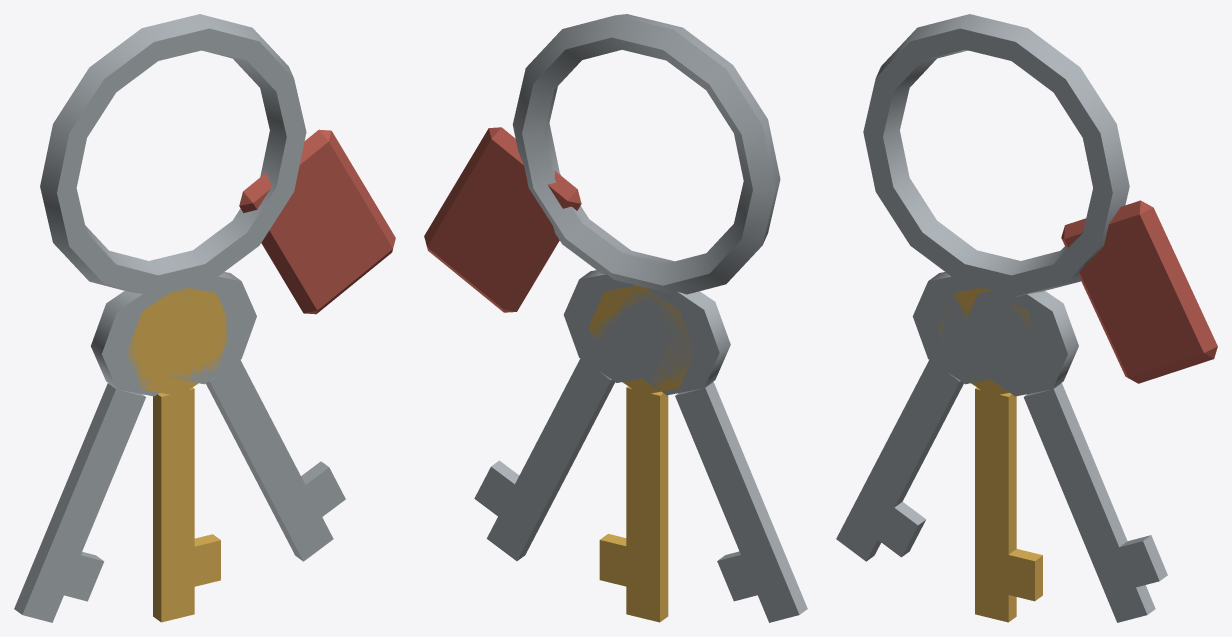
Rendered from key_ring.glb.
3 views of the same model, side by side, from view 1: azimuth 30°, elevation 25°; view 2: azimuth 150°, elevation 25°; view 3: azimuth 330°, elevation 25° (orthographic).
Visible parts, largest first — view 1: key_ring; view 2: key_ring; view 3: key_ring.
Part boxes in pixels (<box>): key_ring: <box>14,14,395,622</box>; key_ring: <box>424,14,807,622</box>; key_ring: <box>836,14,1217,622</box>.
Size of the model in its own units: 0.0789 by 0.1181 by 0.00633.
